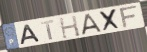A: (20, 23, 43, 46), (81, 12, 103, 36)
F: (119, 4, 139, 29)
H: (58, 14, 81, 40)
T: (40, 19, 56, 41)
X: (98, 8, 122, 33)
